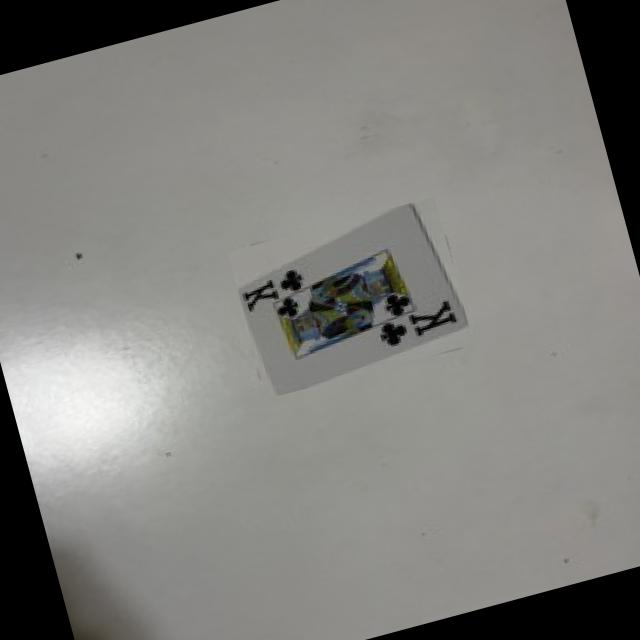King of clubs: (238, 203, 467, 395)
